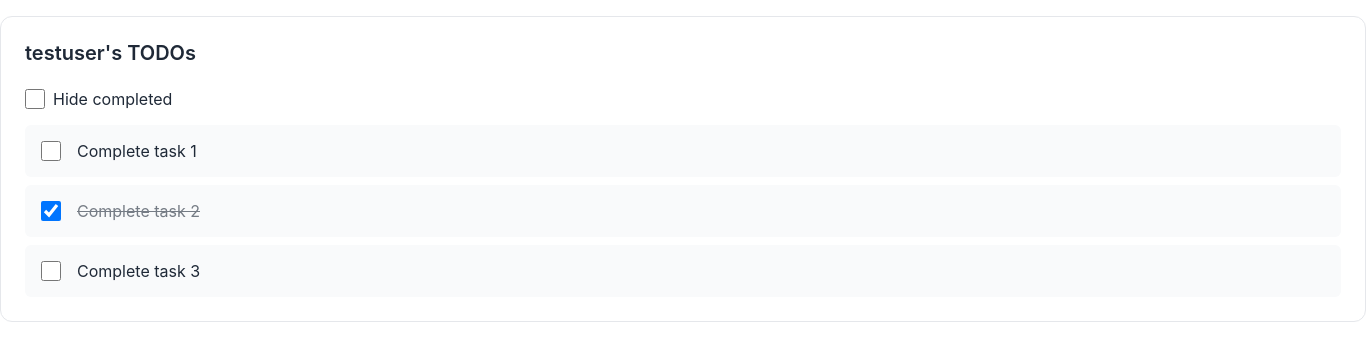
Test case: TodosList › should filter completed todos when checkbox is checked
Click the checkbox labelled "Hide completed" at x=35, y=99, box left=25, top=89, right=45, bottom=109
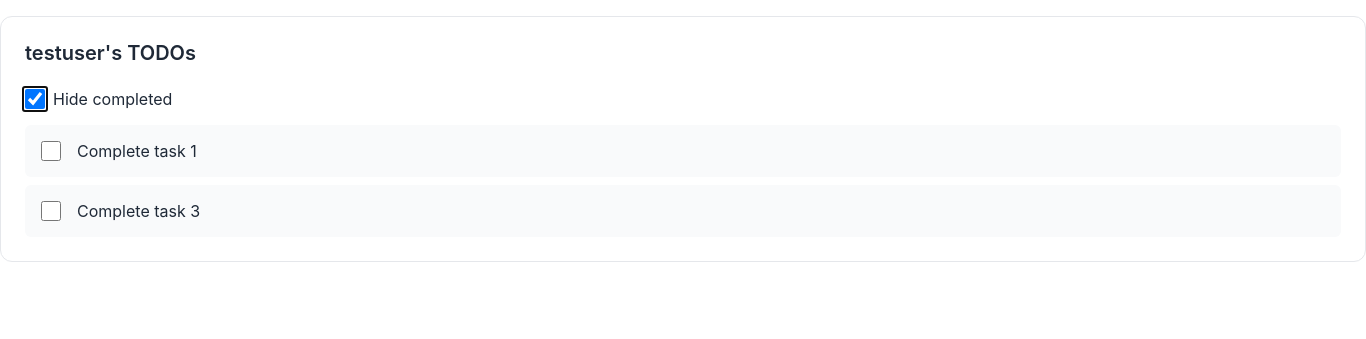
Expected: the text "Complete task 1" is shown, left=77, top=141, right=197, bottom=161
Now the text "Complete task 2" is gone
